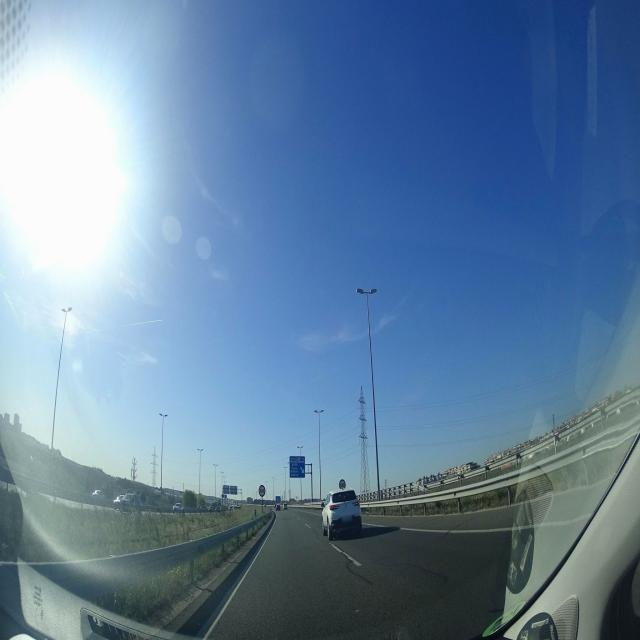car: (321, 488, 362, 540)
